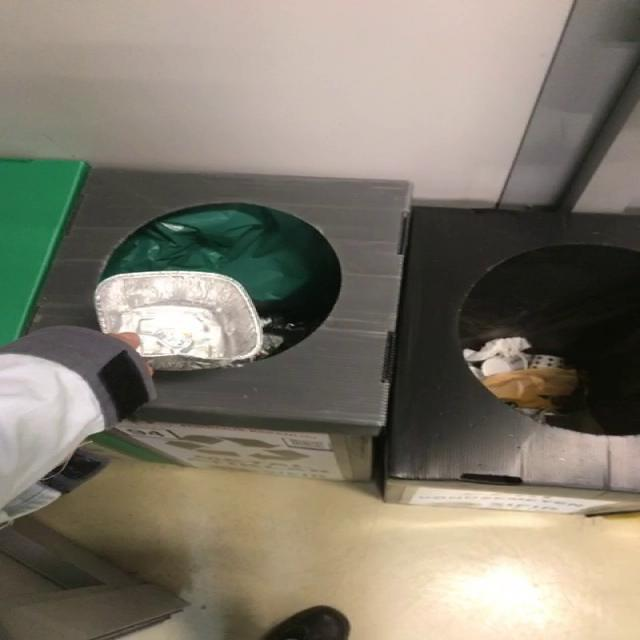Bin: (31, 169, 639, 492)
Metal: (93, 271, 261, 370)
